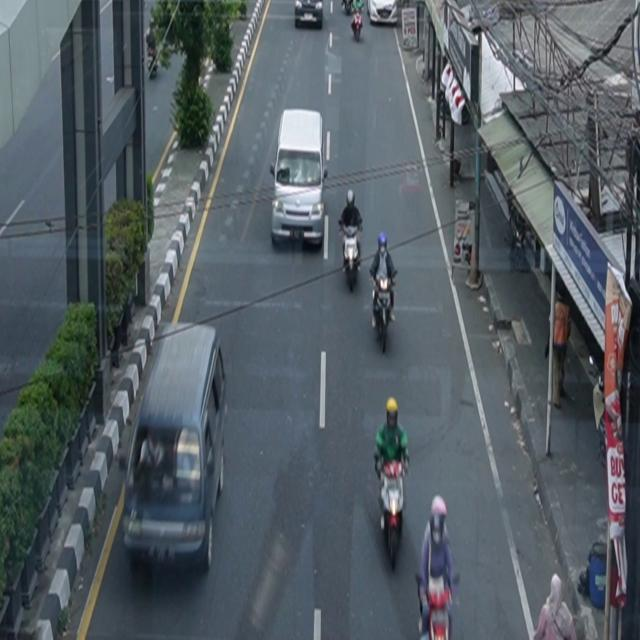car: (124, 322, 229, 574), (295, 1, 324, 30), (367, 1, 398, 26)
truck: (270, 108, 329, 248)
